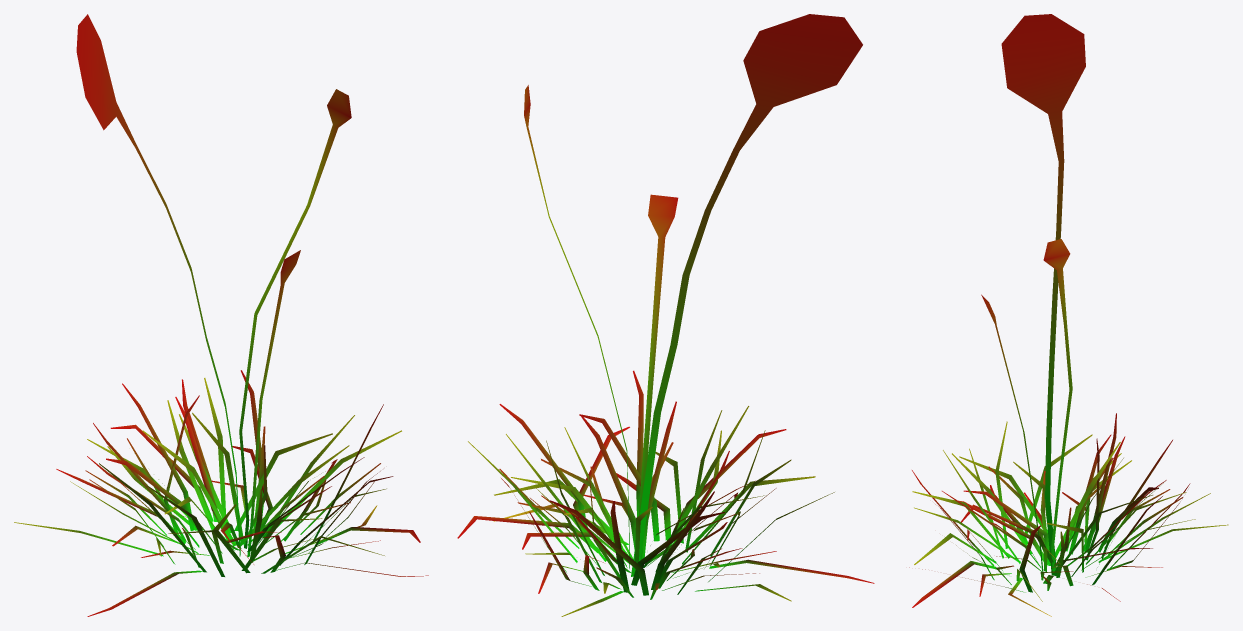
Rendered from Var7_LOD3.fbx.
The picture shows the model from 3 angles, left to right: view 1: azimuth 30°, elevation 25°; view 2: azimuth 150°, elevation 25°; view 3: azimuth 270°, elevation 25°; orthographic projection. The views are drawn at different scales.
Parts seen in each view (by area): view 1: _8607_Var7_LOD3; view 2: _8607_Var7_LOD3; view 3: _8607_Var7_LOD3.
Boxes of the visible parts, box(x1,y1,x2,y2) form: _8607_Var7_LOD3: box(14, 14, 428, 616); _8607_Var7_LOD3: box(457, 14, 874, 616); _8607_Var7_LOD3: box(909, 14, 1228, 616).
Size of the model in its own units: 10.46 by 16.33 by 9.77.
